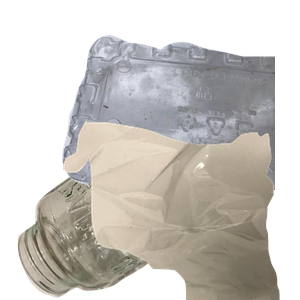glass: (15, 126, 229, 300)
metal: (99, 70, 236, 176)
plastic: (60, 32, 300, 212)
trash: (61, 120, 300, 300)
